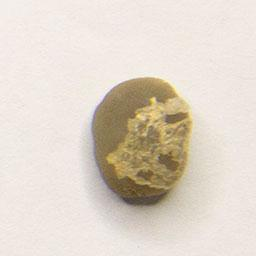peaberry: (88, 73, 195, 206)
